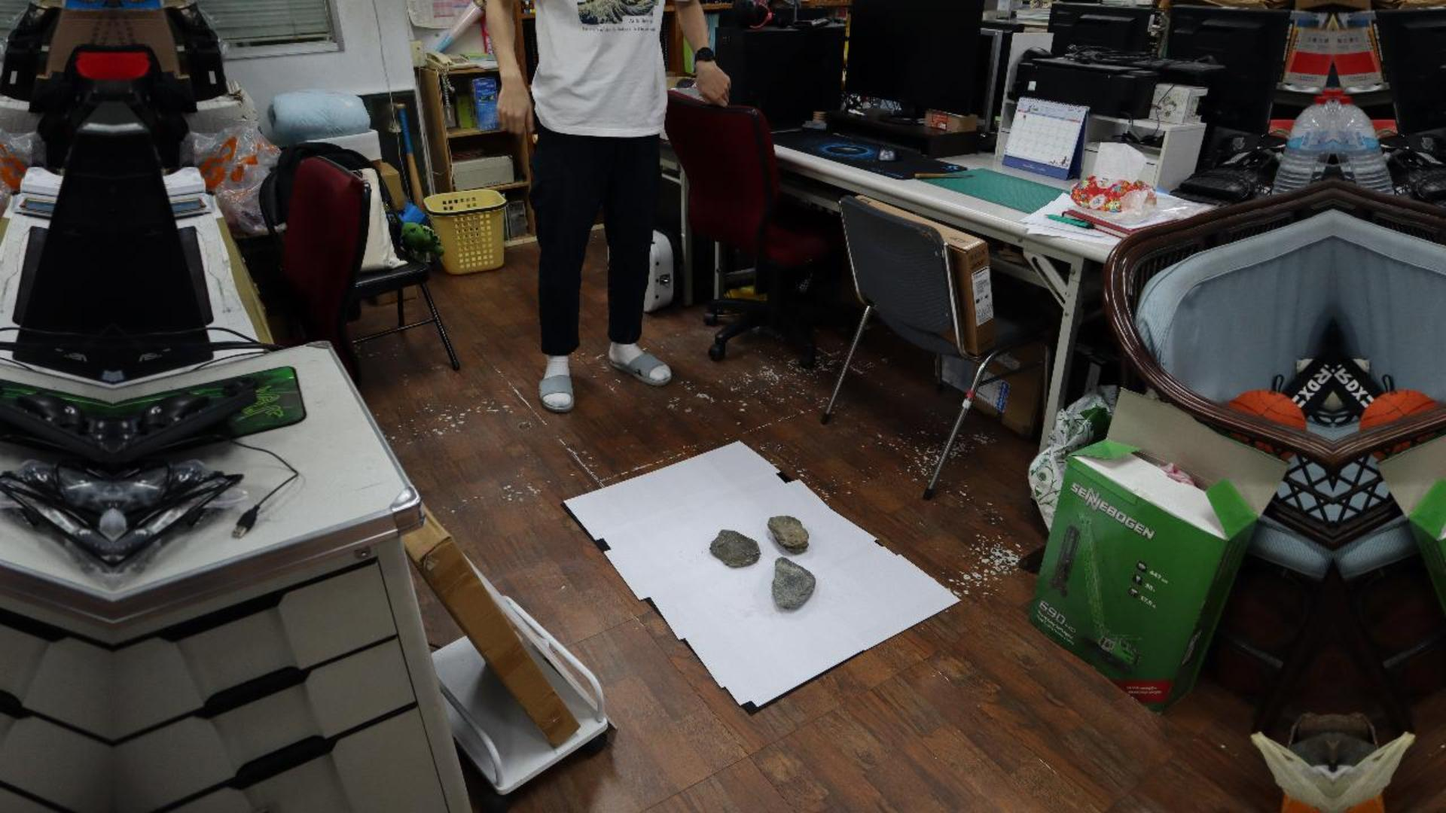rock: (772, 557, 816, 610), (709, 530, 759, 567), (767, 515, 809, 552)
